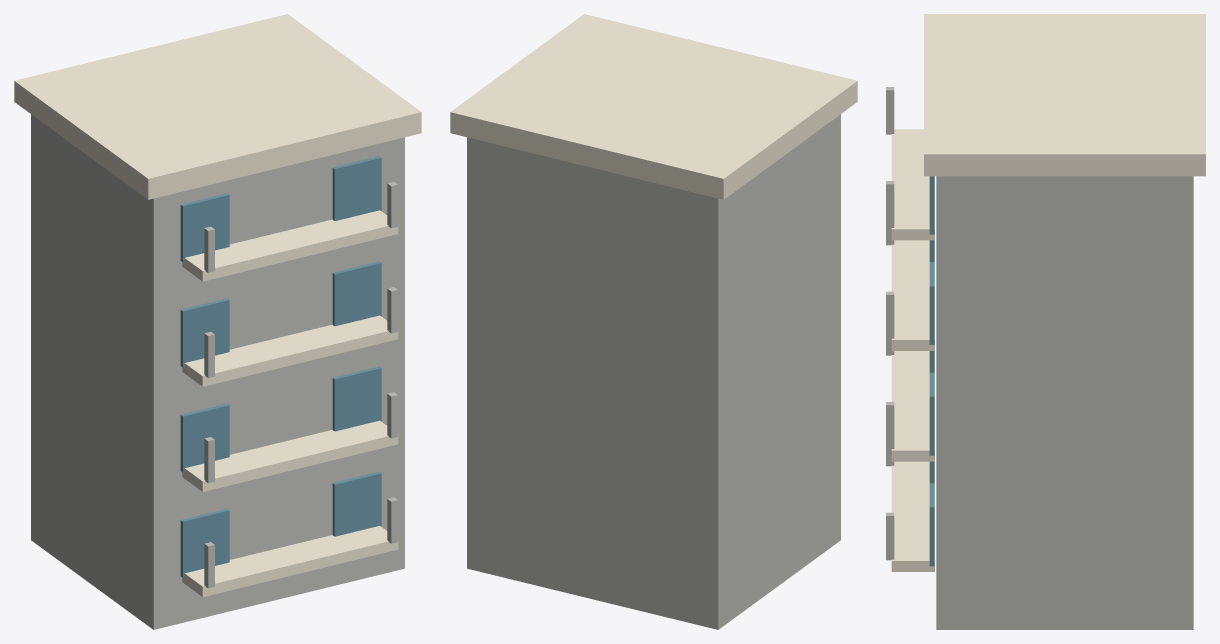
Rendered from apartment.gltf.
The picture shows the model from 3 angles, left to right: view 1: azimuth 30°, elevation 25°; view 2: azimuth 150°, elevation 25°; view 3: azimuth 270°, elevation 25°; orthographic projection. The views are drawn at different scales.
Parts seen in each view (by area): view 1: apartment_building; view 2: apartment_building; view 3: apartment_building.
Boxes of the visible parts, x1=… form: apartment_building: x1=14, y1=14, x2=421, y2=629; apartment_building: x1=450, y1=14, x2=857, y2=629; apartment_building: x1=886, y1=14, x2=1205, y2=629.
Bounding box in the file's own units: 2.45 × 3.92 × 2.36.
